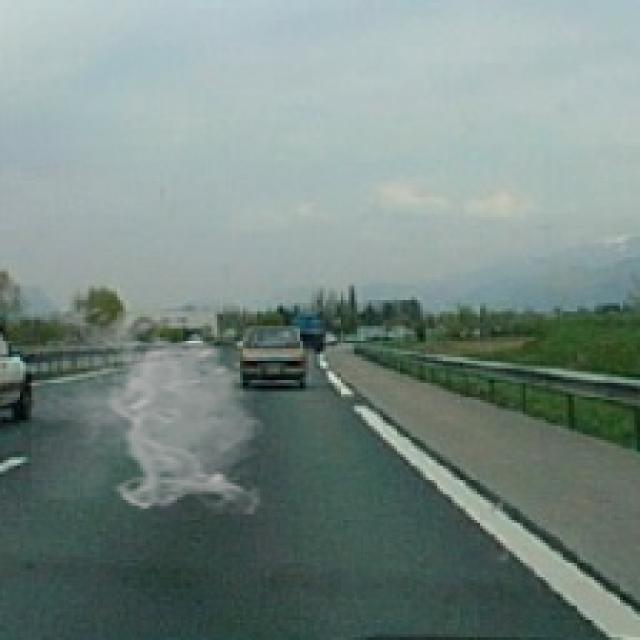smoke: (32, 300, 268, 514)
